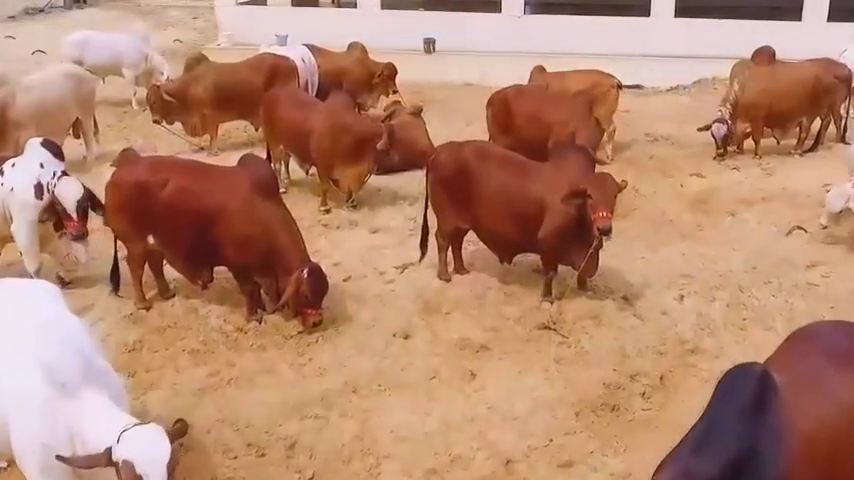bo: (98, 145, 339, 342), (4, 270, 204, 479), (405, 132, 634, 309), (641, 297, 854, 480), (698, 45, 854, 172), (254, 79, 384, 213), (2, 136, 109, 297), (142, 52, 294, 149), (1, 50, 110, 165), (478, 74, 606, 170), (522, 55, 638, 154), (60, 25, 168, 112), (304, 38, 403, 116), (259, 25, 334, 125), (361, 88, 435, 178), (806, 162, 854, 230)
